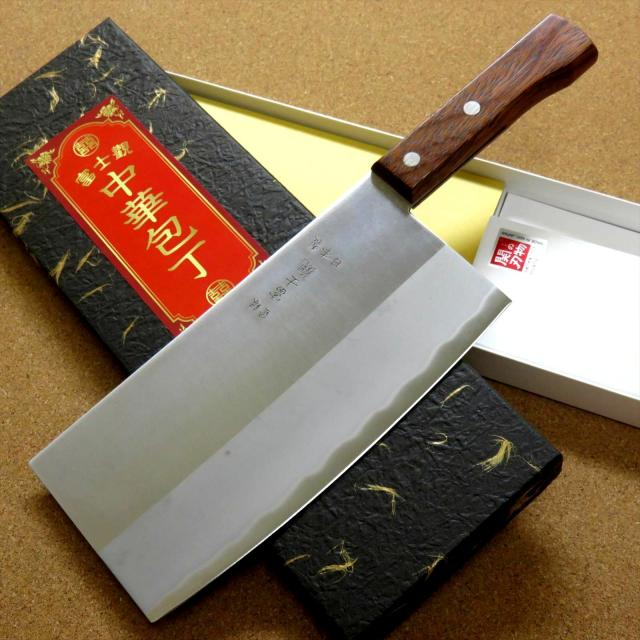cleaver: (28, 14, 599, 616)
